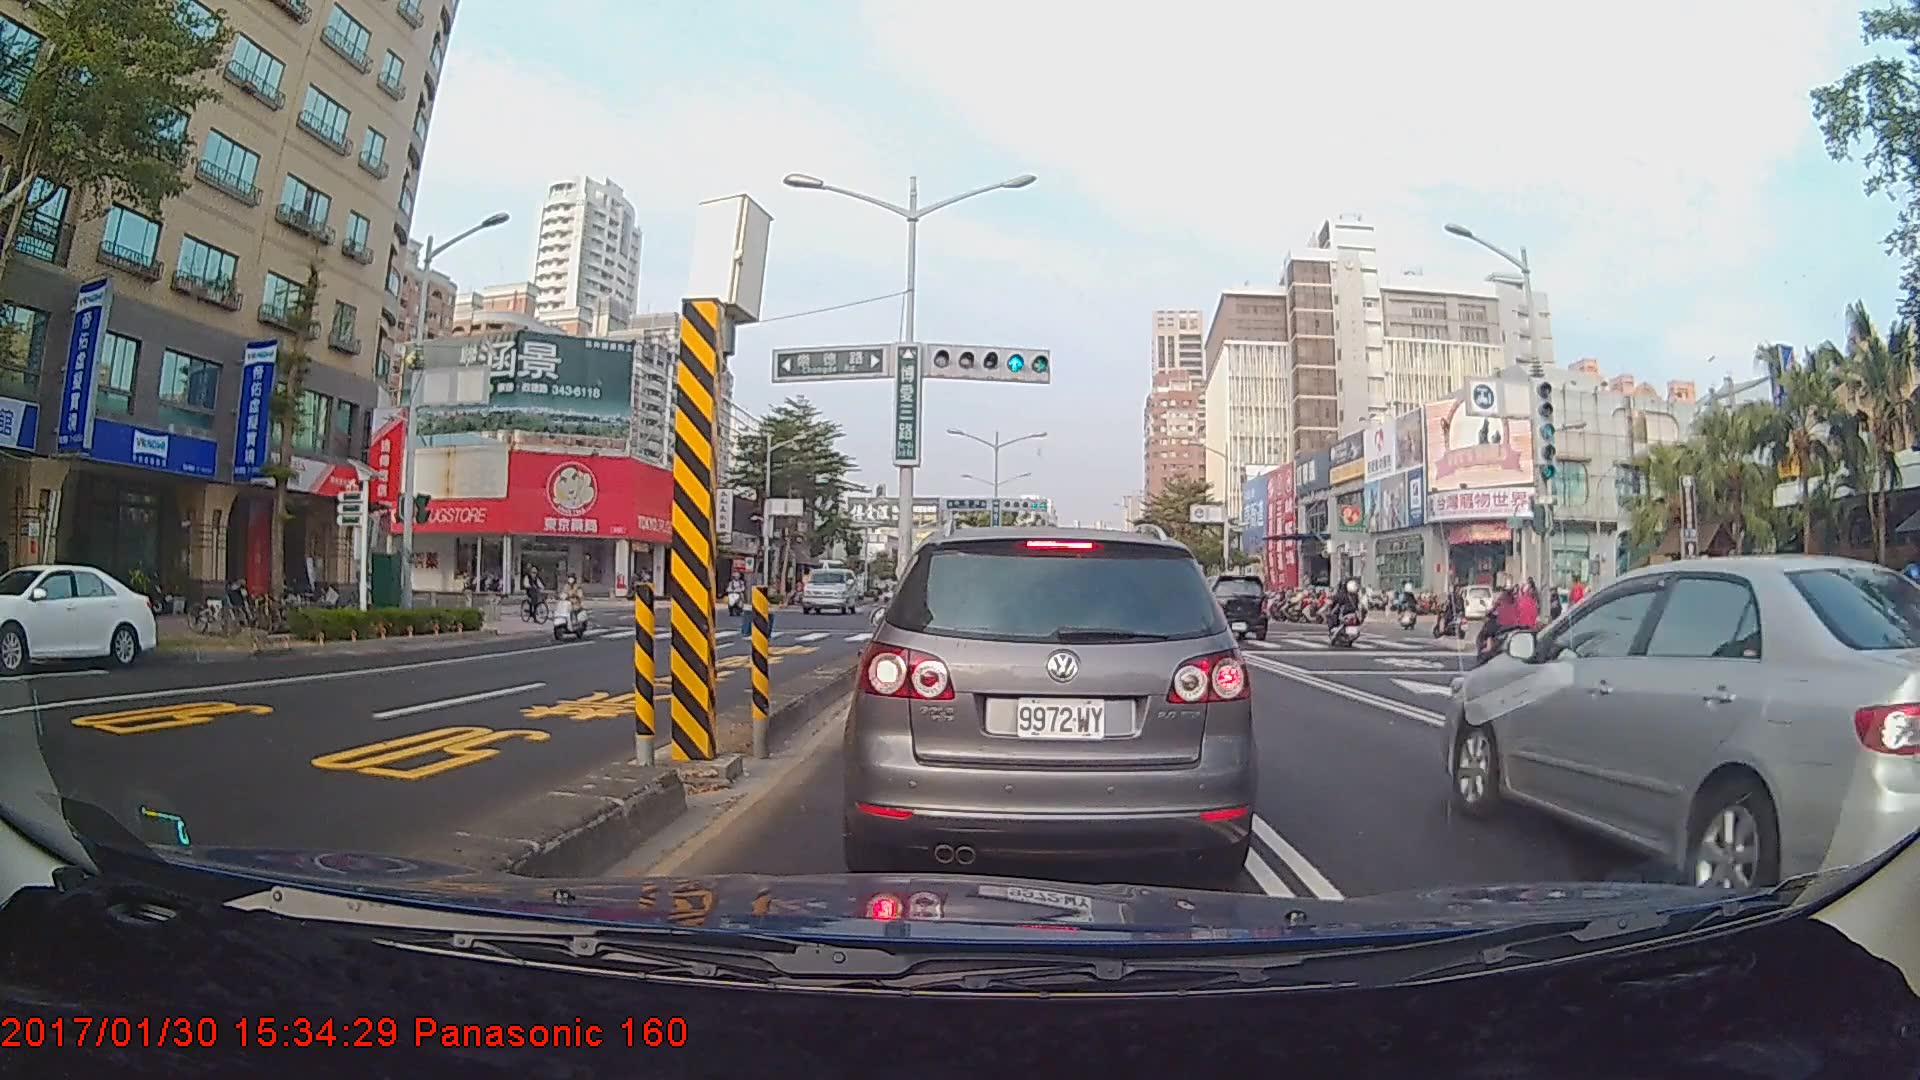rider: (1475, 576, 1541, 674), (550, 571, 601, 645), (1321, 583, 1373, 646), (1436, 582, 1473, 646)
vehicle: (1442, 551, 1920, 883), (857, 522, 1248, 878), (0, 561, 157, 671), (1189, 572, 1268, 640), (801, 567, 860, 616)
